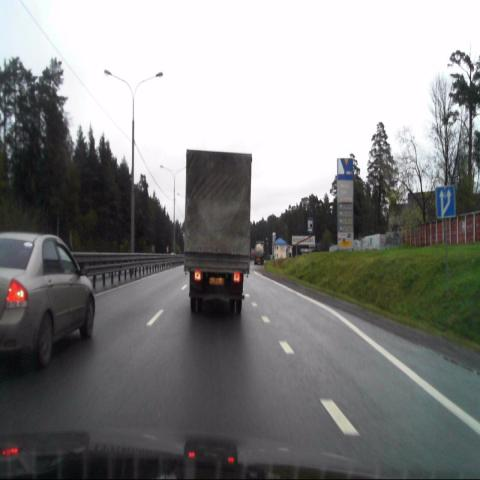5_15_3: (435, 186, 455, 218)
